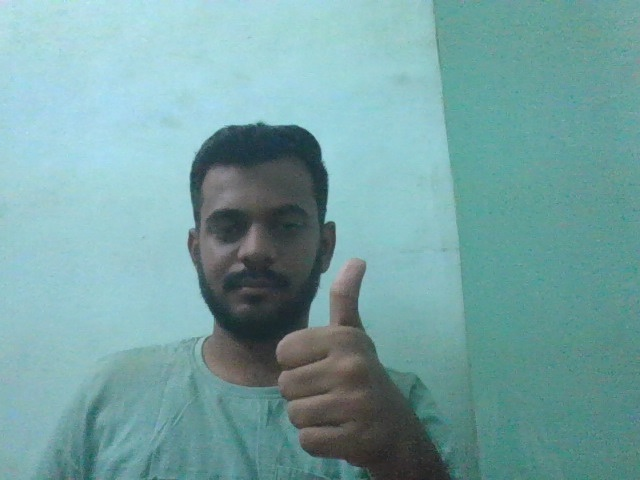yes: (272, 256, 415, 467)
